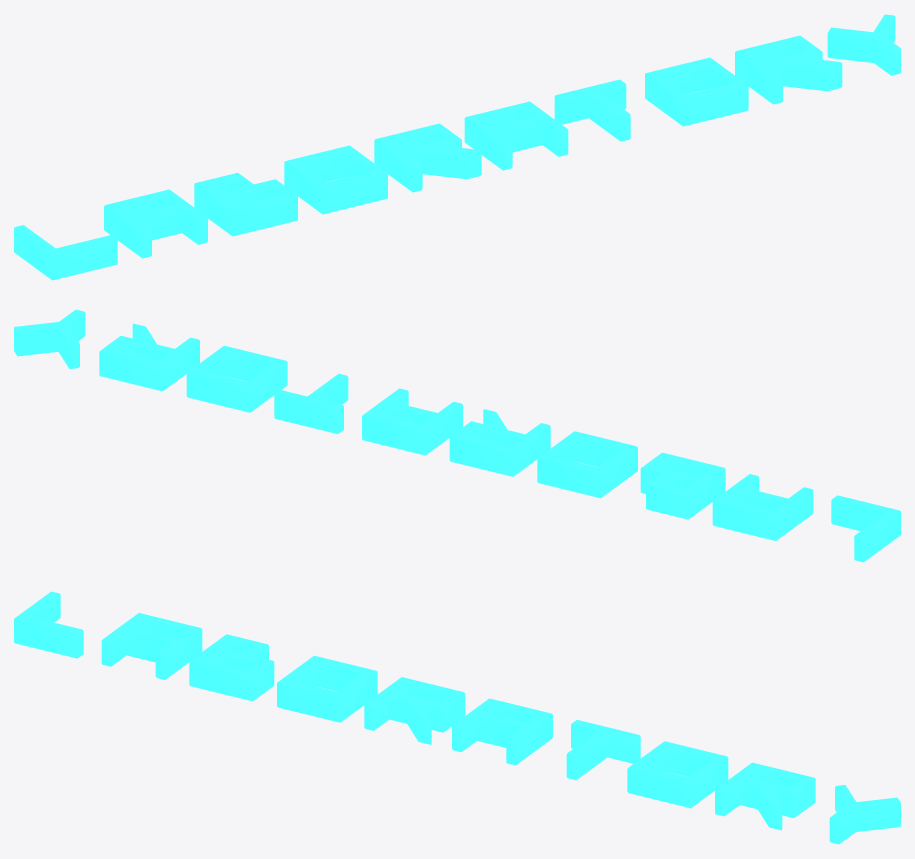
The model's file is FACILITY_LaboratoryLabel.fbx.
The picture shows the model from 3 angles, top to bottom: view 1: azimuth 30°, elevation 25°; view 2: azimuth 150°, elevation 25°; view 3: azimuth 330°, elevation 25°; orthographic projection. The views are drawn at different scales.
Visible parts, largest first — view 1: LAB-LABEL; view 2: LAB-LABEL; view 3: LAB-LABEL.
Boxes of the visible parts, x1,y1,x2,y2 form: LAB-LABEL: (14,14,900,280); LAB-LABEL: (14,309,900,562); LAB-LABEL: (14,591,900,844).
Size of the model in its own units: 1064 by 32 by 80.93.
